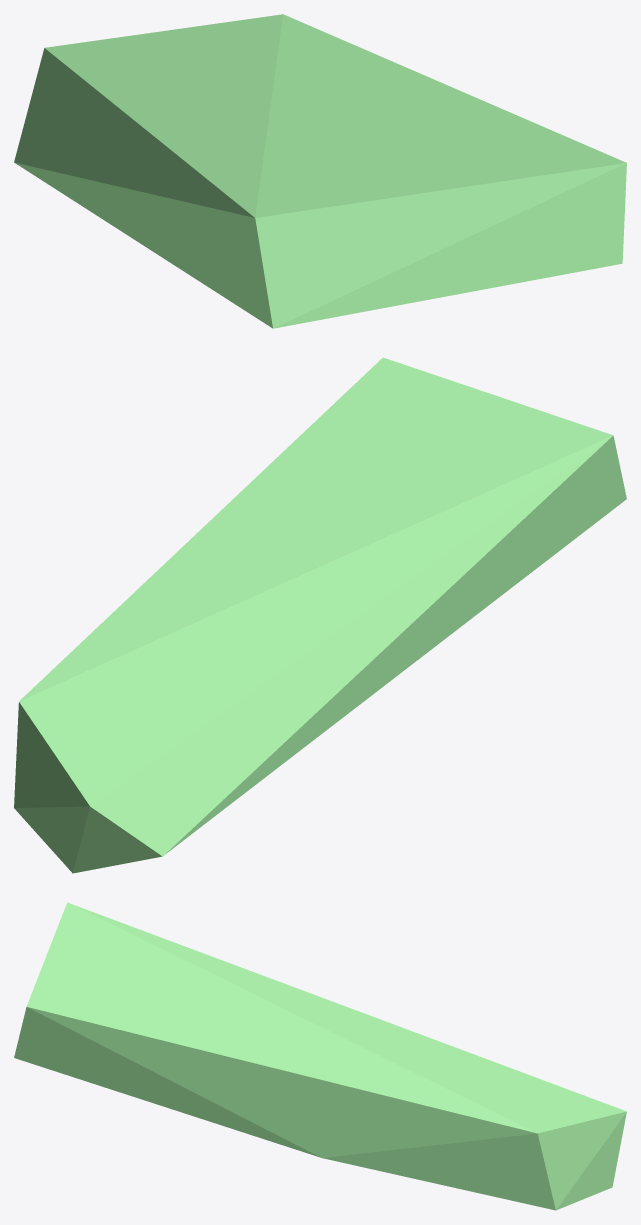
File: dvkr_robot_L3_sx_respondable_TOOL1_coll_1.dae
3 views of the same model, one above another, from view 1: azimuth 30°, elevation 25°; view 2: azimuth 150°, elevation 25°; view 3: azimuth 270°, elevation 25° (orthographic). The views are drawn at different scales.
Parts seen in each view (by area): view 1: Node_0000023514CDA040; view 2: Node_0000023514CDA040; view 3: Node_0000023514CDA040.
Boxes of the visible parts, x1,y1,x2,y2 form: Node_0000023514CDA040: (14, 14, 626, 328); Node_0000023514CDA040: (14, 357, 626, 873); Node_0000023514CDA040: (14, 902, 626, 1210).
Size of the model in its own units: 0.00243 by 0.00185 by 0.0051.
